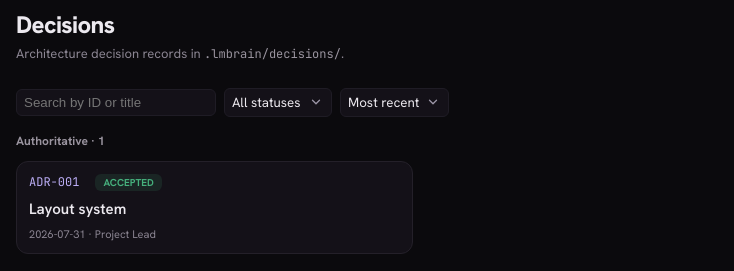
it: DecisionsList lifecycle › explains an empty result rather than showing nothing
In the search field named "Search decisions": (116, 102) [16,88,216,116], type "zzz"
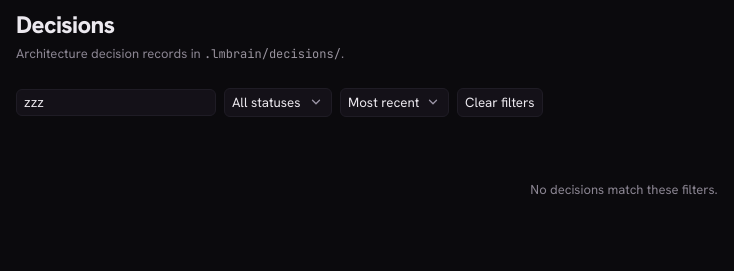
Result: the text with class "lm-empty-state" reads "No decisions match these filters." at [530,180,718,198]
